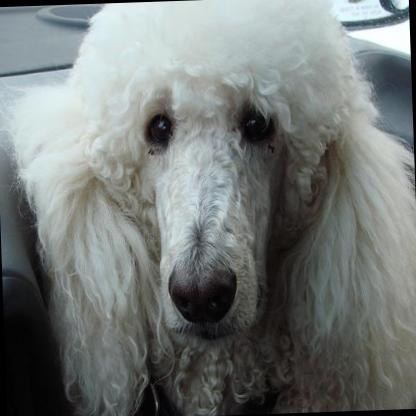standard_poodle: (1, 0, 416, 416)
